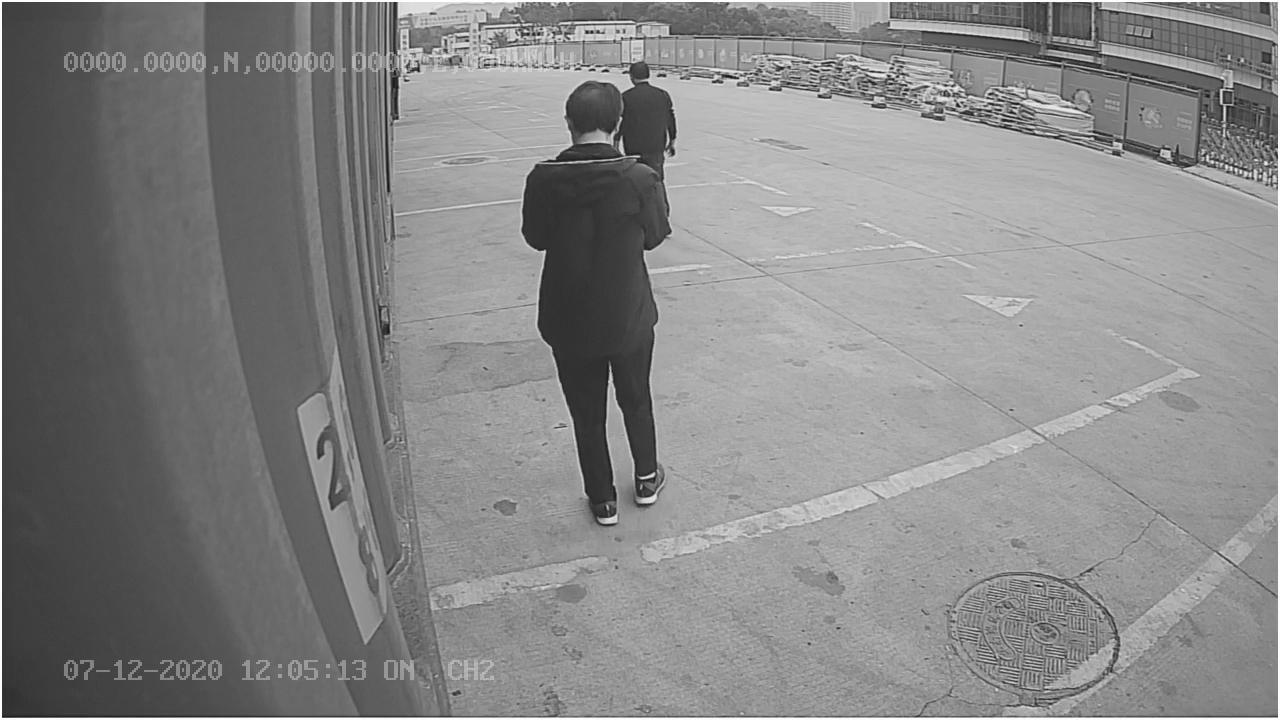person: (502, 79, 675, 527)
